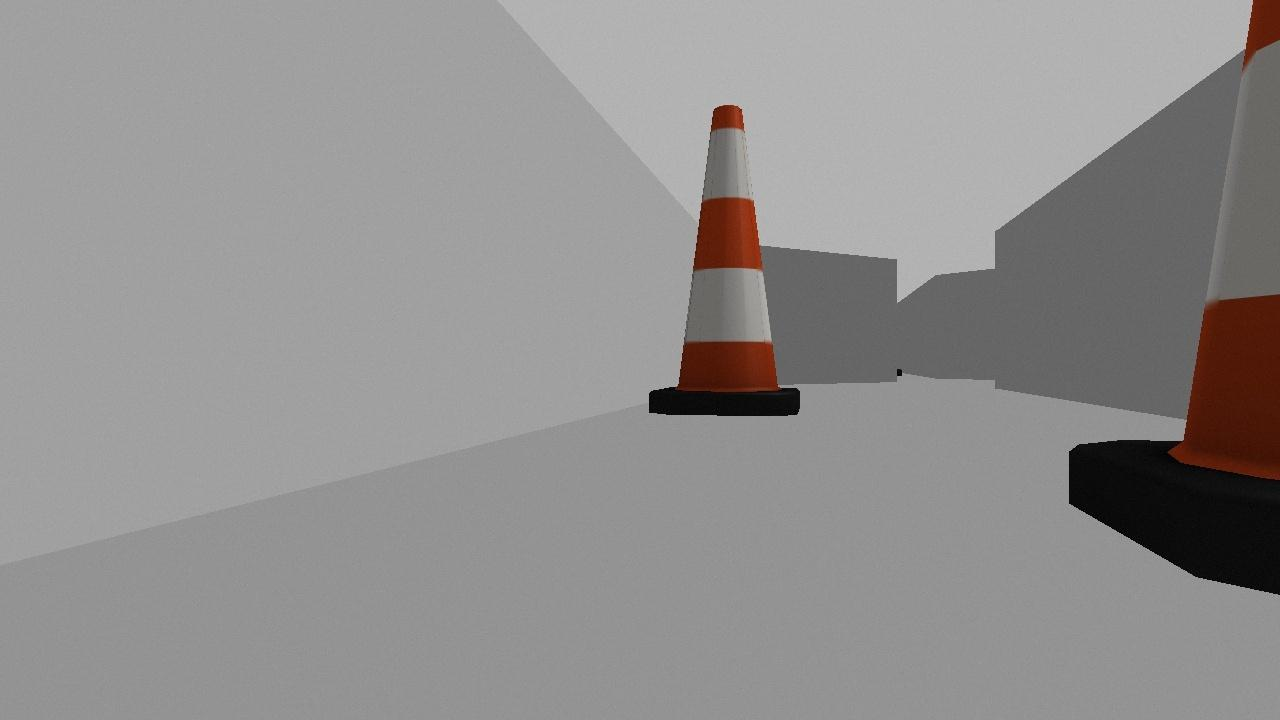cone_barrel: (1052, 0, 1279, 605), (632, 98, 814, 426)
